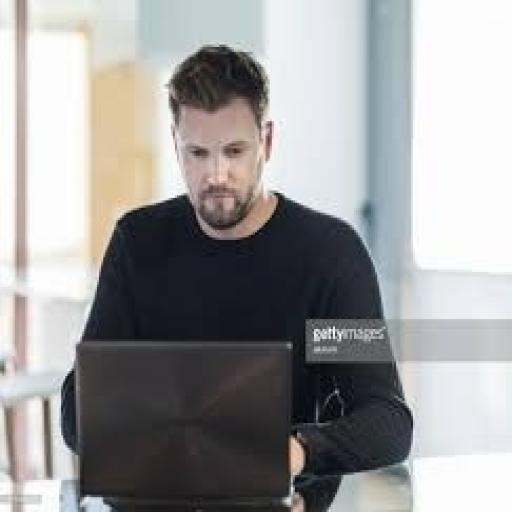using_laptop: (72, 336, 297, 510)
